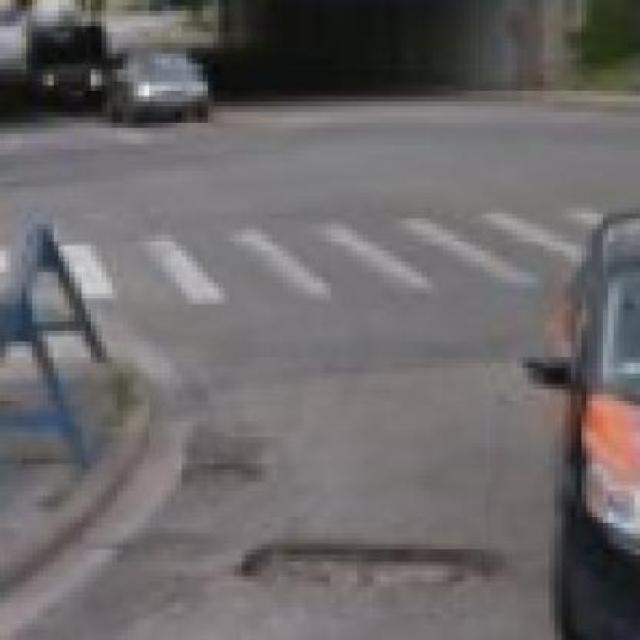crosswalk: (56, 205, 606, 301)
